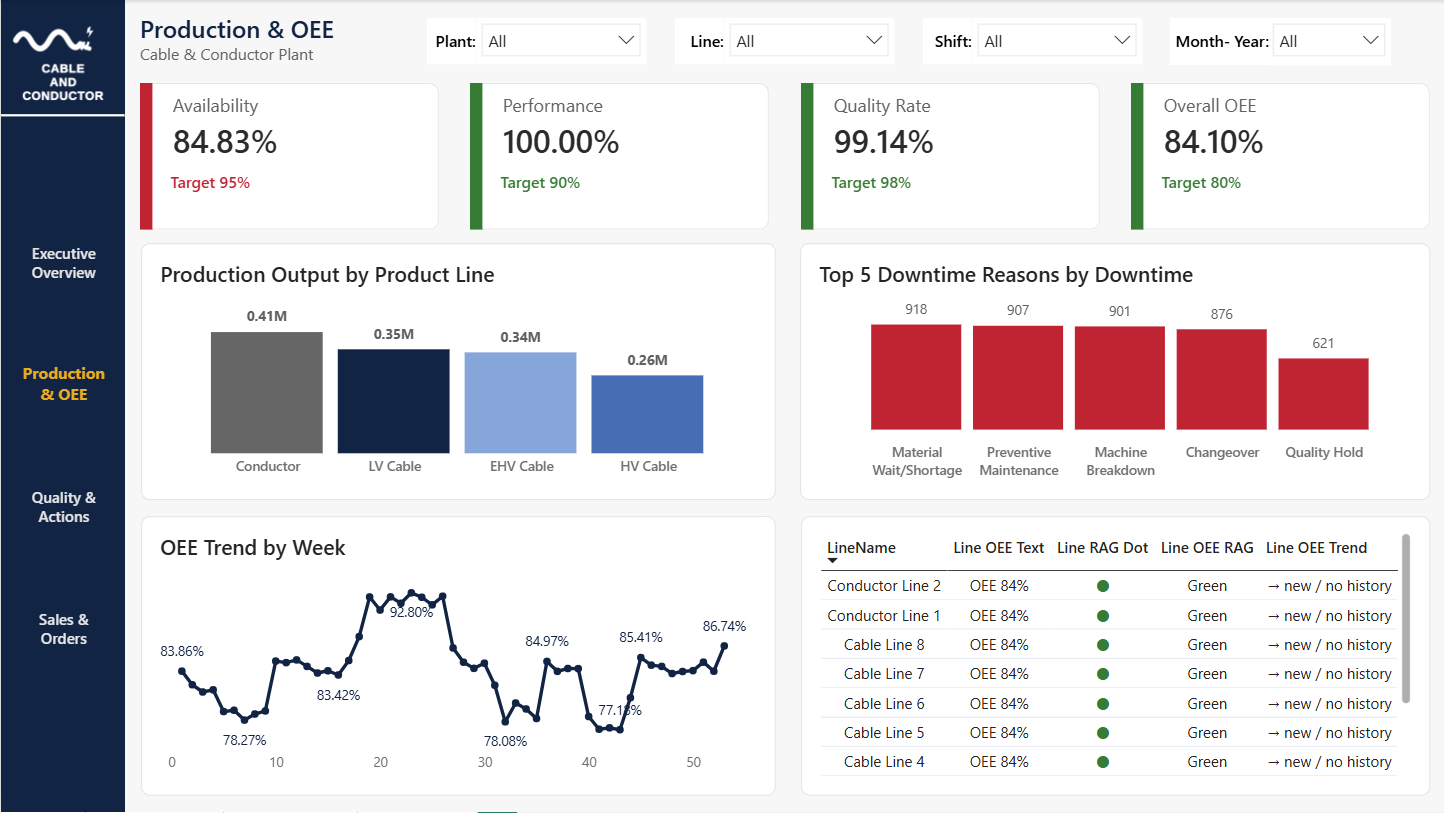

Layout of this report page (visuals, bound fields, positions):
{"tool":"powerbi","page":{"name":"Production & OEE","canvas":[1280,720],"ordinal":1},"visuals":[{"type":"image","box":[0,0,109.5,121.6],"z":0,"group":"g9"},{"type":"slicer","fields":{"Values":["Dim_Date.MonthYear"]},"box":[1122.6,16,110,41.7],"z":0,"group":"g8"},{"type":"slicer","fields":{"Values":["Dim_Line.PlantID"]},"box":[421.3,16.1,151.2,41.3],"z":0,"group":"g4"},{"type":"slicer","fields":{"Values":["Dim_Line.LineName"]},"box":[641,16.1,151.2,41.3],"z":0,"group":"g5"},{"type":"slicer","fields":{"Values":["Dim_Shift.ShiftName"]},"box":[861,16.3,151.2,41.3],"z":0,"group":"g6"},{"type":"textbox","box":[15.1,37.2,81.6,93.1],"z":0},{"type":"shape","box":[1036.6,16,87.8,41.7],"z":1000,"group":"g8"},{"type":"shape","box":[378,16.1,43.3,41.3],"z":1000,"group":"g4"},{"type":"shape","box":[597.7,16.1,43.3,41.3],"z":1000,"group":"g5"},{"type":"shape","box":[817.7,16.3,43.3,41.3],"z":1000,"group":"g6"},{"type":"shape","box":[0,73.3,109.5,57.3],"z":1000,"group":"g9"},{"type":"group","id":"g1","title":"Group 1","box":[123.3,73.6,265.1,130.3],"z":1000},{"type":"cardVisual","title":"Total Production","fields":{"Data":["Measures Table.Availability %"]},"box":[123.3,73.6,265,130],"z":2000,"group":"g1"},{"type":"group","id":"g2","title":"Group 2","box":[416.2,73.6,265.1,130.3],"z":2000},{"type":"cardVisual","title":"Total Production","fields":{"Data":["Measures Table.Performance %"]},"box":[416.2,73.6,265,130],"z":2000,"group":"g2"},{"type":"cardVisual","title":"Total Production","fields":{"Data":["Measures Table.Quality %"]},"box":[709.1,73.6,265,130],"z":2000,"group":"g3"},{"type":"cardVisual","title":"Total Production","fields":{"Data":["Measures Table.OEE %"]},"box":[1002,73.6,265,130],"z":2000,"group":"g7"},{"type":"group","id":"g3","title":"Group 2","box":[709.1,73.6,265.1,130.3],"z":3000},{"type":"lineChart","title":"OEE Trend by Week","fields":{"Y":["Measures Table.OEE %"],"Category":["Dim_Date.Week"]},"box":[123.7,457.9,562.7,248.4],"z":4000},{"type":"shape","box":[0,0,110,720],"z":5000},{"type":"shape","box":[123.3,73.6,11,130],"z":5002,"group":"g1"},{"type":"shape","box":[416.2,73.6,11,130],"z":5002,"group":"g2"},{"type":"shape","box":[709.1,73.6,11,130],"z":5002,"group":"g3"},{"type":"shape","box":[1002,73.6,11,130],"z":5002,"group":"g7"},{"type":"textbox","box":[123.3,10.6,277.5,73.6],"z":6000},{"type":"group","id":"g4","title":"Group 3","box":[378,16.1,194.5,41.3],"z":7000},{"type":"group","id":"g5","title":"Group 3","box":[597.7,16.1,194.5,41.3],"z":8000},{"type":"group","id":"g6","title":"Group 3","box":[817.7,16.3,195.1,41.8],"z":9000},{"type":"group","id":"g7","title":"Group 2","box":[1002,73.6,265.1,130.3],"z":10000},{"type":"clusteredColumnChart","title":"Production Output by  Product Line","fields":{"Category":["Fact_Production.ProductFamily"],"Y":["Measures Table.Total Production (KM)"]},"box":[123.7,215.5,562.7,228.5],"z":11000},{"type":"clusteredColumnChart","title":"Top 5 Downtime Reasons by Downtime ","fields":{"Category":["Fact_Downtime.DowntimeReason"],"Y":["Measures Table.Total Downtime (Hrs)"]},"box":[708.3,215.5,558.7,228.5],"z":12000},{"type":"tableEx","fields":{"Values":["Dim_Line.LineName","Measures Table.Line OEE Text","Measures Table.Line RAG Dot","Measures Table.Line OEE RAG","Measures Table.Line OEE Trend"]},"box":[709.3,457.9,557.7,248.4],"z":13000},{"type":"group","id":"g8","title":"Group 4","box":[1036.6,16,196,41.7],"z":14000},{"type":"pageNavigator","box":[3,188.6,106.7,414],"z":15000},{"type":"group","id":"g9","title":"Group 5","box":[0,0,109.5,130.6],"z":15001}]}

Visuals, with their boxes on the page's 1280x720 design canvas (x1, y1, x2, y2). These are canvas units, not pixel positions in the 1444x813 screenshot, which may show the page scaled, cropped or inside an application window:
image: locate(0, 0, 110, 122)
slicer - Dim_Date.MonthYear: locate(1123, 16, 1233, 58)
slicer - Dim_Line.PlantID: locate(421, 16, 572, 57)
slicer - Dim_Line.LineName: locate(641, 16, 792, 57)
slicer - Dim_Shift.ShiftName: locate(861, 16, 1012, 58)
textbox: locate(15, 37, 97, 130)
shape: locate(1037, 16, 1124, 58)
shape: locate(378, 16, 421, 57)
shape: locate(598, 16, 641, 57)
shape: locate(818, 16, 861, 58)
shape: locate(0, 73, 110, 131)
"Group 1" group: locate(123, 74, 388, 204)
"Total Production" cardVisual: locate(123, 74, 388, 204)
"Group 2" group: locate(416, 74, 681, 204)
"Total Production" cardVisual: locate(416, 74, 681, 204)
"Total Production" cardVisual: locate(709, 74, 974, 204)
"Total Production" cardVisual: locate(1002, 74, 1267, 204)
"Group 2" group: locate(709, 74, 974, 204)
"OEE Trend by Week" lineChart: locate(124, 458, 686, 706)
shape: locate(0, 0, 110, 720)
shape: locate(123, 74, 134, 204)
shape: locate(416, 74, 427, 204)
shape: locate(709, 74, 720, 204)
shape: locate(1002, 74, 1013, 204)
textbox: locate(123, 11, 401, 84)
"Group 3" group: locate(378, 16, 572, 57)
"Group 3" group: locate(598, 16, 792, 57)
"Group 3" group: locate(818, 16, 1013, 58)
"Group 2" group: locate(1002, 74, 1267, 204)
"Production Output by  Product Line" clusteredColumnChart: locate(124, 216, 686, 444)
"Top 5 Downtime Reasons by Downtime " clusteredColumnChart: locate(708, 216, 1267, 444)
tableEx - Dim_Line.LineName x Measures Table.Line OEE Text: locate(709, 458, 1267, 706)
"Group 4" group: locate(1037, 16, 1233, 58)
pageNavigator: locate(3, 189, 110, 603)
"Group 5" group: locate(0, 0, 110, 131)
